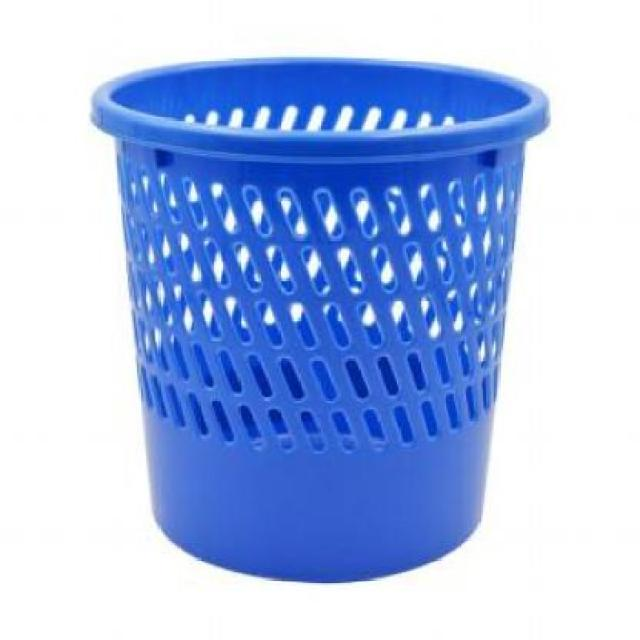dustbin: (85, 49, 557, 588)
